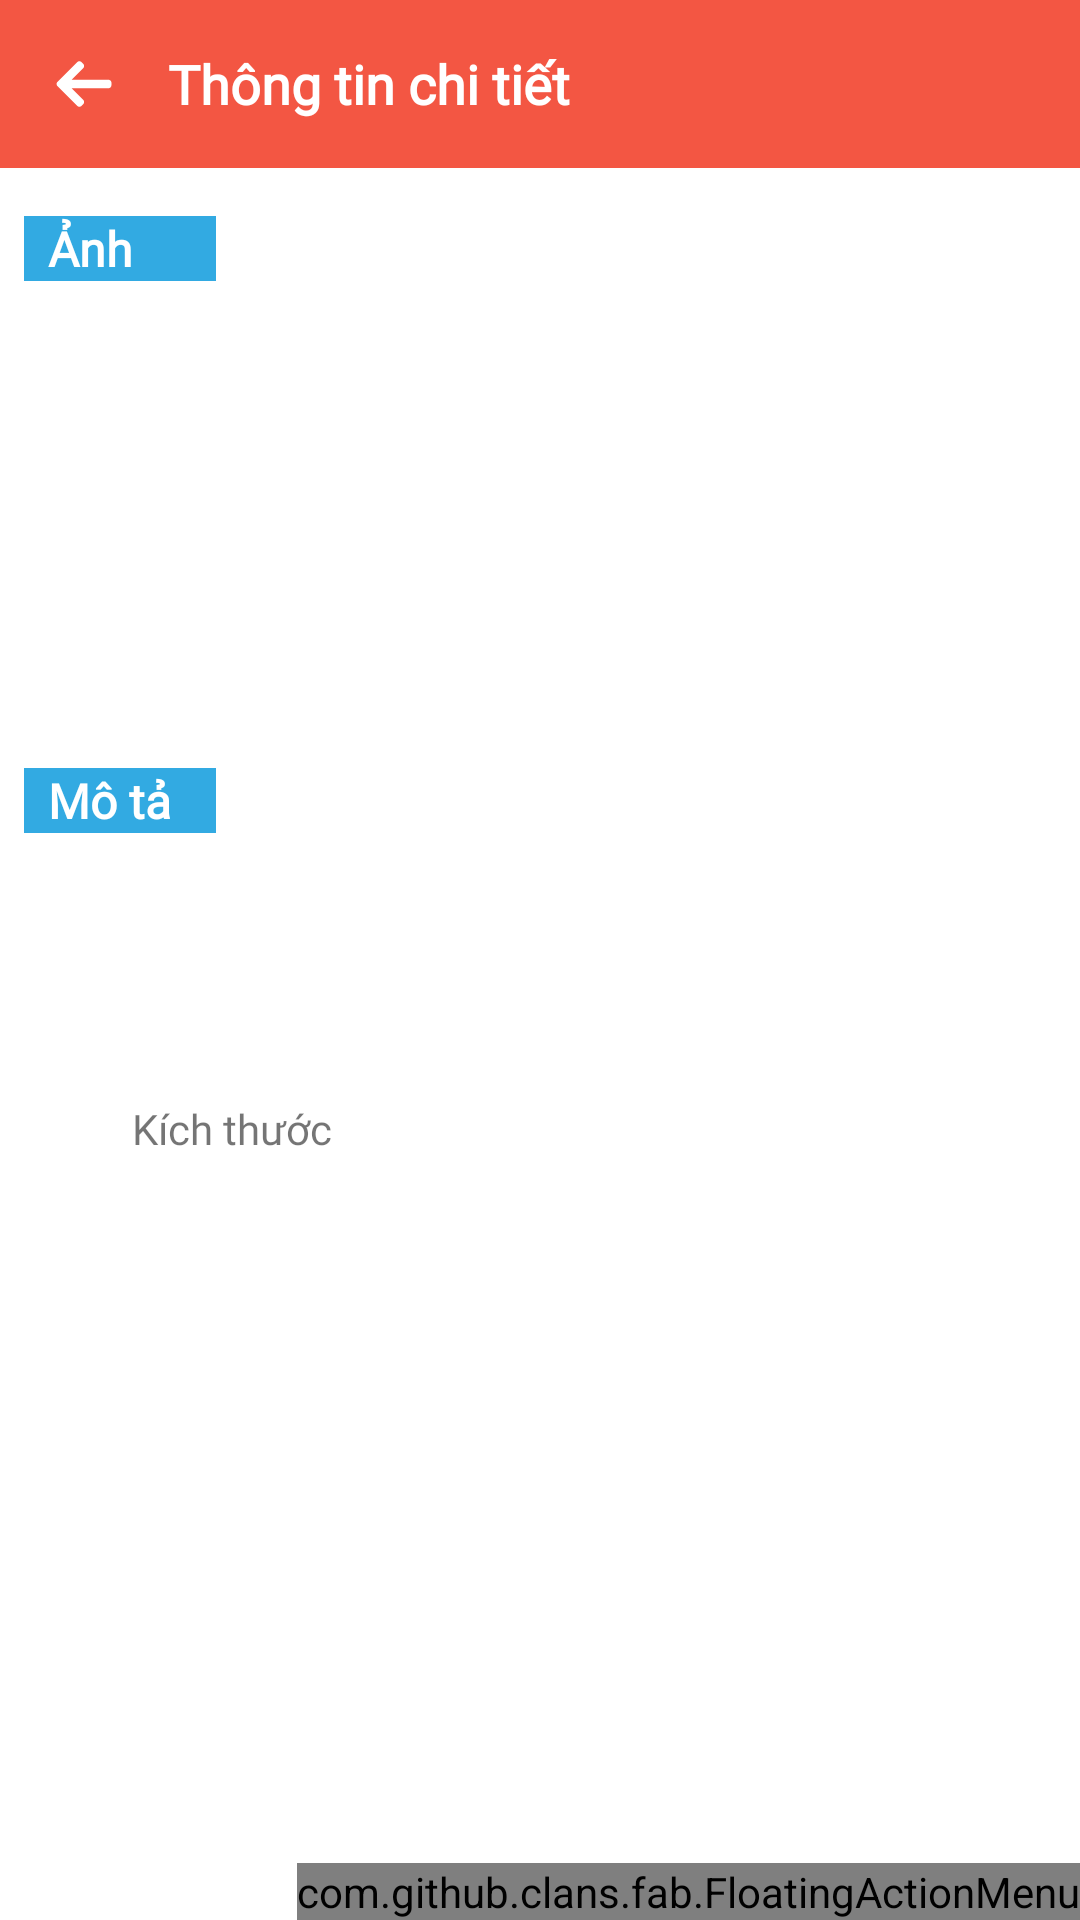

Icon bounding boxes for this 1080w x 1920h phone screenshot, format region(x1, y1, x2, y2):
back: region(56, 61, 112, 107)
